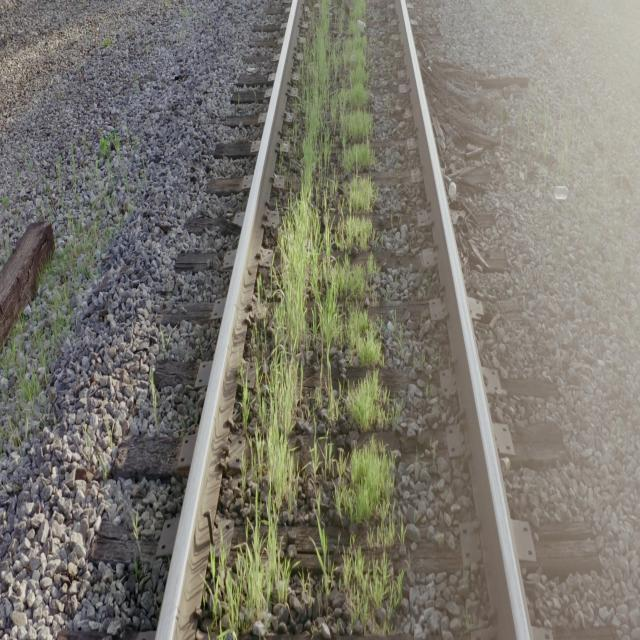Plant: (206, 0, 399, 636), (311, 442, 402, 633)
